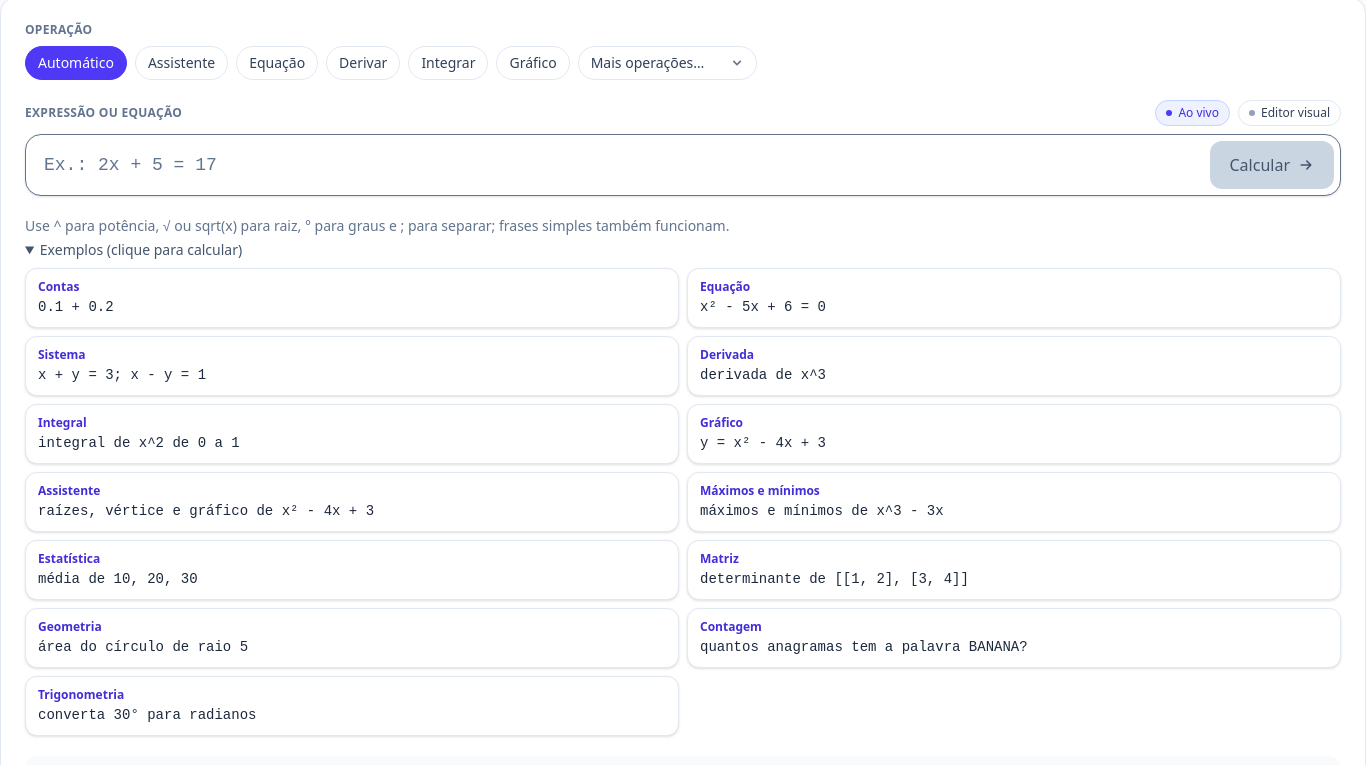
Calculator › explains special solution sets
The width and height of the screenshot is (1366, 765).
Step 1. Type "x + 1 = x + 2" into the field labelled "Expressão ou equação" → [617, 165], box [32,141,1202,189]
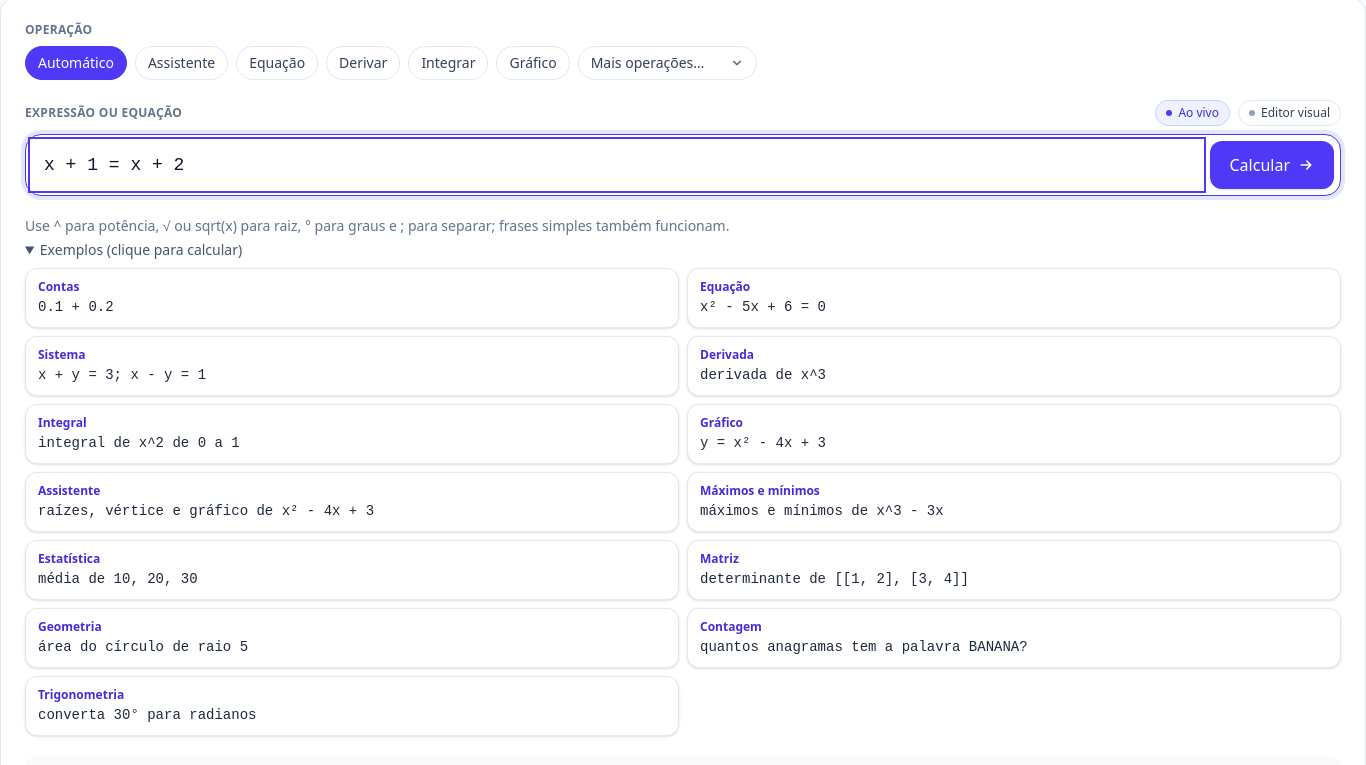
Step 2. Click the button "Calcular" → [1272, 165], box [1210,141,1334,189]
(page scrolled)
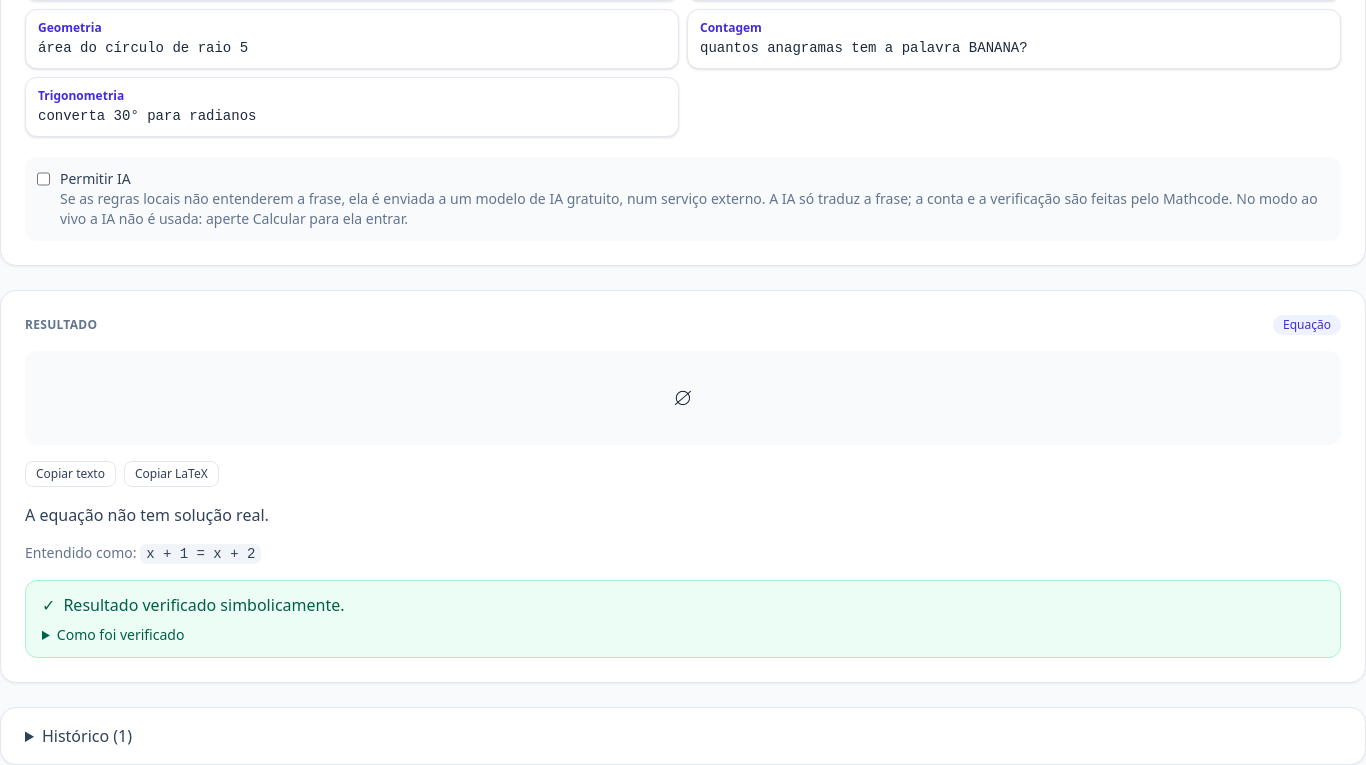
Expected: the text "A equação não tem solução real." is shown, [25,504,269,526]
